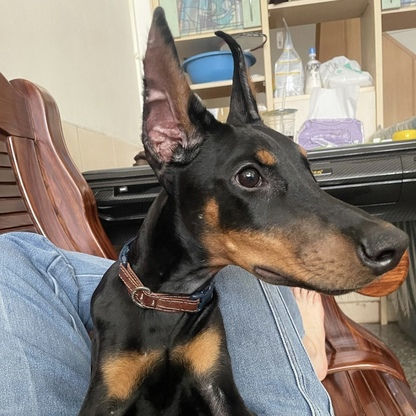doberman: (80, 6, 413, 416)
